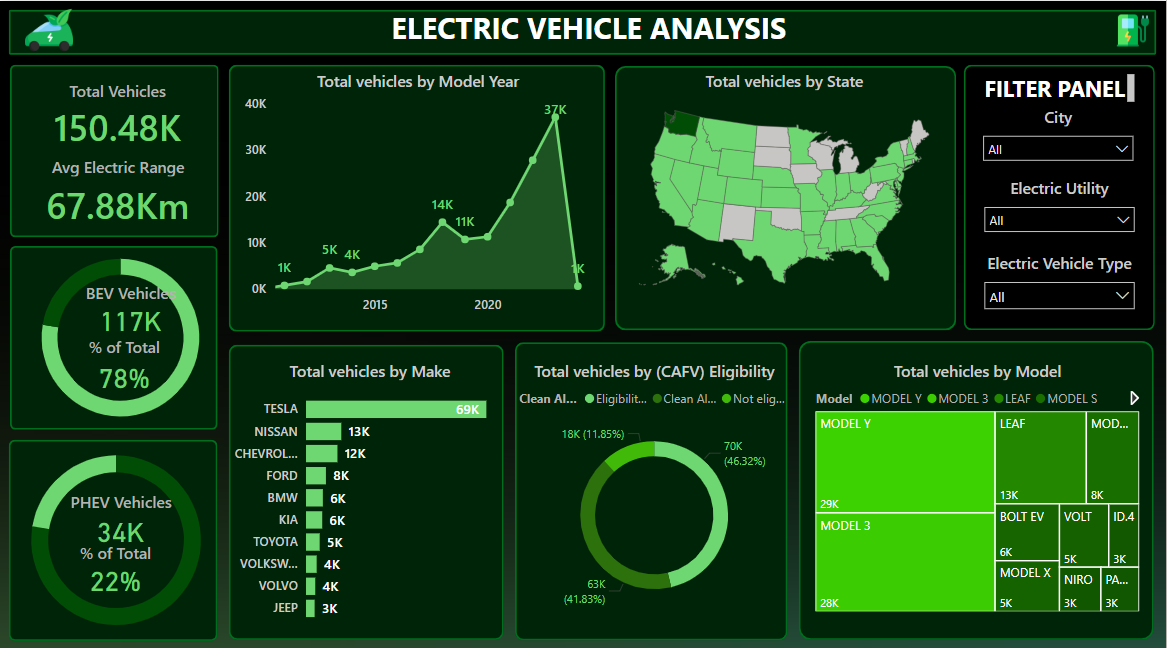

The dashboard page shown, as its layout file describes it:
{"tool":"powerbi","page":{"name":"dashboard","canvas":[1280,720],"ordinal":0},"visuals":[{"type":"shape","box":[9.6,9.6,1259.7,49.4],"z":0},{"type":"textbox","box":[17.3,3,1257,63.1],"z":1000},{"type":"shape","box":[9.6,481.6,229.2,220.9],"z":2000},{"type":"shape","box":[11,70,229.2,189.4],"z":3000},{"type":"shape","box":[11,269,227.8,201.7],"z":4000},{"type":"shape","box":[251.1,377.1,301.9,324.1],"z":5000},{"type":"shape","box":[565.4,375.2,299.1,327.4],"z":6000},{"type":"clusteredBarChart","title":"Total vehicles by Make","fields":{"Category":["Electric_Vehicle_Population_Data.Make"],"Y":["Electric_Vehicle_Population_Data.total vehicles"]},"box":[240.1,393.8,332.1,297.8],"z":7000},{"type":"donutChart","title":"Total vehicles by (CAFV) Eligibility","fields":{"Y":["Electric_Vehicle_Population_Data.total vehicles"],"Category":["Electric_Vehicle_Population_Data.Clean Alternative Fuel Vehicle (CAFV) Eligibility"]},"box":[566.7,393.8,303.3,289.5],"z":8000},{"type":"shape","box":[251.1,70,413,293.1],"z":9000},{"type":"card","title":"Avg Electric Range","fields":{"Values":["Electric_Vehicle_Population_Data.Avg Range"]},"box":[19.2,170.2,220.9,83.7],"z":10000},{"type":"card","title":"Total Vehicles","fields":{"Values":["Electric_Vehicle_Population_Data.total vehicles"]},"box":[34.3,86.4,189.4,81],"z":11000},{"type":"donutChart","fields":{"Category":["Electric_Vehicle_Population_Data.Electric Vehicle Type"],"Y":["Electric_Vehicle_Population_Data.total vehicles"]},"box":[0,256.6,264.8,226.4],"z":12000},{"type":"card","title":"BEV Vehicles","fields":{"Values":["Electric_Vehicle_Population_Data.BEV vehicles"]},"box":[79.6,309.3,127.6,59],"z":13000},{"type":"card","title":"% of Total","fields":{"Values":["Electric_Vehicle_Population_Data.% of BEV"]},"box":[68.6,368.3,135.8,67.2],"z":14000},{"type":"donutChart","fields":{"Category":["Electric_Vehicle_Population_Data.Electric Vehicle Type"],"Y":["Electric_Vehicle_Population_Data.total vehicles"]},"box":[0,470.7,255.2,242.9],"z":15000},{"type":"card","title":"PHEV Vehicles","fields":{"Values":["Electric_Vehicle_Population_Data.PHEV vehicles"]},"box":[68.4,538.6,128.3,65.6],"z":16000},{"type":"card","title":"% of Total","fields":{"Values":["Electric_Vehicle_Population_Data.% of PHEV"]},"box":[68.3,593.9,116.6,60.4],"z":17000},{"type":"shape","box":[1058,69.4,209.9,291.5],"z":18000},{"type":"areaChart","title":"Total vehicles by Model Year","fields":{"Category":["Electric_Vehicle_Population_Data.Model Year"],"Y":["Electric_Vehicle_Population_Data.total vehicles"]},"box":[263.5,75.5,391.1,277.2],"z":19000},{"type":"shape","box":[876.8,373.2,389.7,328.2],"z":20000},{"type":"treemap","title":"Total vehicles by Model","fields":{"Group":["Electric_Vehicle_Population_Data.Model"],"Values":["Electric_Vehicle_Population_Data.total vehicles"]},"box":[890.6,393.8,365,281.3],"z":21000},{"type":"shape","box":[675.1,71.4,374.6,290.1],"z":22000},{"type":"shapeMap","title":"Total vehicles by State","fields":{"Category":["Electric_Vehicle_Population_Data.State"],"Value":["Electric_Vehicle_Population_Data.total vehicles"]},"box":[679.2,75.5,363.6,259.1],"z":23000},{"type":"slicer","title":"City","fields":{"Values":["Electric_Vehicle_Population_Data.City"]},"box":[1069,115.3,185.2,78.2],"z":24000},{"type":"slicer","title":"Electric Utility","fields":{"Values":["Electric_Vehicle_Population_Data.Electric Utility"]},"box":[1070.3,193.5,185.2,75.5],"z":25000},{"type":"slicer","title":"Electric Vehicle Type","fields":{"Values":["Electric_Vehicle_Population_Data.Electric Vehicle Type"]},"box":[1070.3,275.8,185.2,65.9],"z":26000},{"type":"textbox","box":[1075.8,75.5,174.3,41.2],"z":27000},{"type":"image","box":[1221.3,2.7,45.3,59],"z":27003},{"type":"image","box":[17.8,0,71.4,64.5],"z":27005}]}

Visuals, with their boxes in screenshot pixels (x1, y1, x2, y2), scaled from the page's 1280x720 canvas onto the 1167x648 screenshot:
shape: [9,9,1157,53]
textbox: [16,3,1162,59]
shape: [9,433,218,632]
shape: [10,63,219,233]
shape: [10,242,218,424]
shape: [229,339,504,631]
shape: [515,338,788,632]
"Total vehicles by Make" clusteredBarChart: [219,354,522,622]
"Total vehicles by (CAFV) Eligibility" donutChart: [517,354,793,615]
shape: [229,63,605,327]
"Avg Electric Range" card: [18,153,219,229]
"Total Vehicles" card: [31,78,204,151]
donutChart - Electric_Vehicle_Population_Data.Electric Vehicle Type x Electric_Vehicle_Population_Data.total vehicles: [0,231,241,435]
"BEV Vehicles" card: [73,278,189,331]
"% of Total" card: [63,331,186,392]
donutChart - Electric_Vehicle_Population_Data.Electric Vehicle Type x Electric_Vehicle_Population_Data.total vehicles: [0,424,233,642]
"PHEV Vehicles" card: [62,485,179,544]
"% of Total" card: [62,535,169,589]
shape: [965,62,1156,325]
"Total vehicles by Model Year" areaChart: [240,68,597,317]
shape: [799,336,1155,631]
"Total vehicles by Model" treemap: [812,354,1145,608]
shape: [616,64,957,325]
"Total vehicles by State" shapeMap: [619,68,951,301]
"City" slicer: [975,104,1143,174]
"Electric Utility" slicer: [976,174,1145,242]
"Electric Vehicle Type" slicer: [976,248,1145,308]
textbox: [981,68,1140,105]
image: [1113,2,1155,56]
image: [16,0,81,58]
